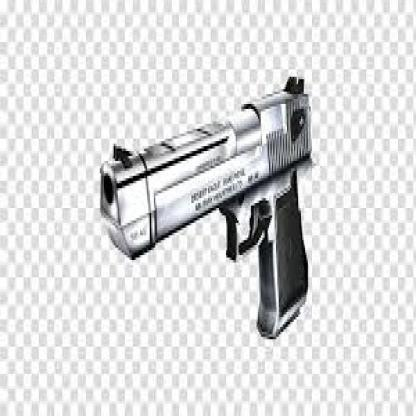Pistol: (88, 57, 335, 396)
